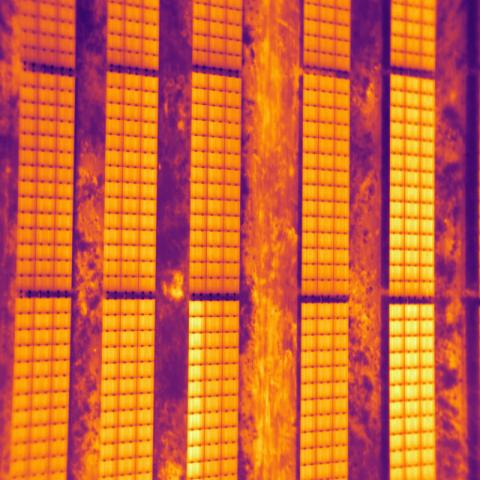fault: (186, 301, 207, 480)
